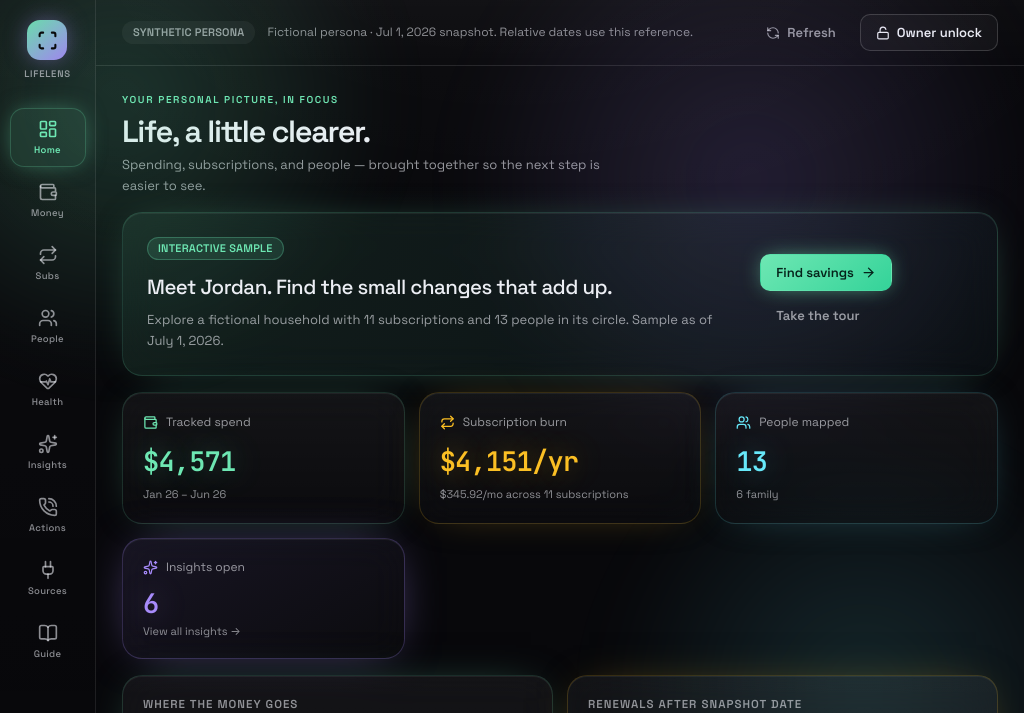
Test: LifeLens shell › renders the env cheatsheet on the Demo Guide screen
Click the button "Guide": {"x": 48, "y": 641} [10,612,86,671]
(page scrolled)
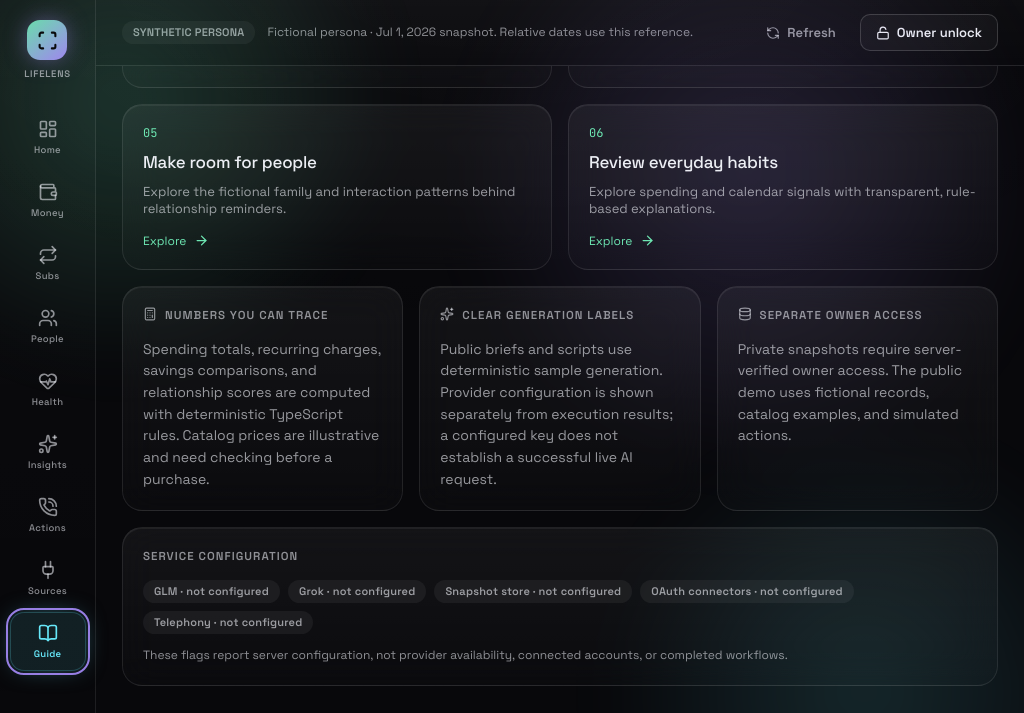
Expected: the text "GLM · not configured" is shown, [143,580,280,603]
